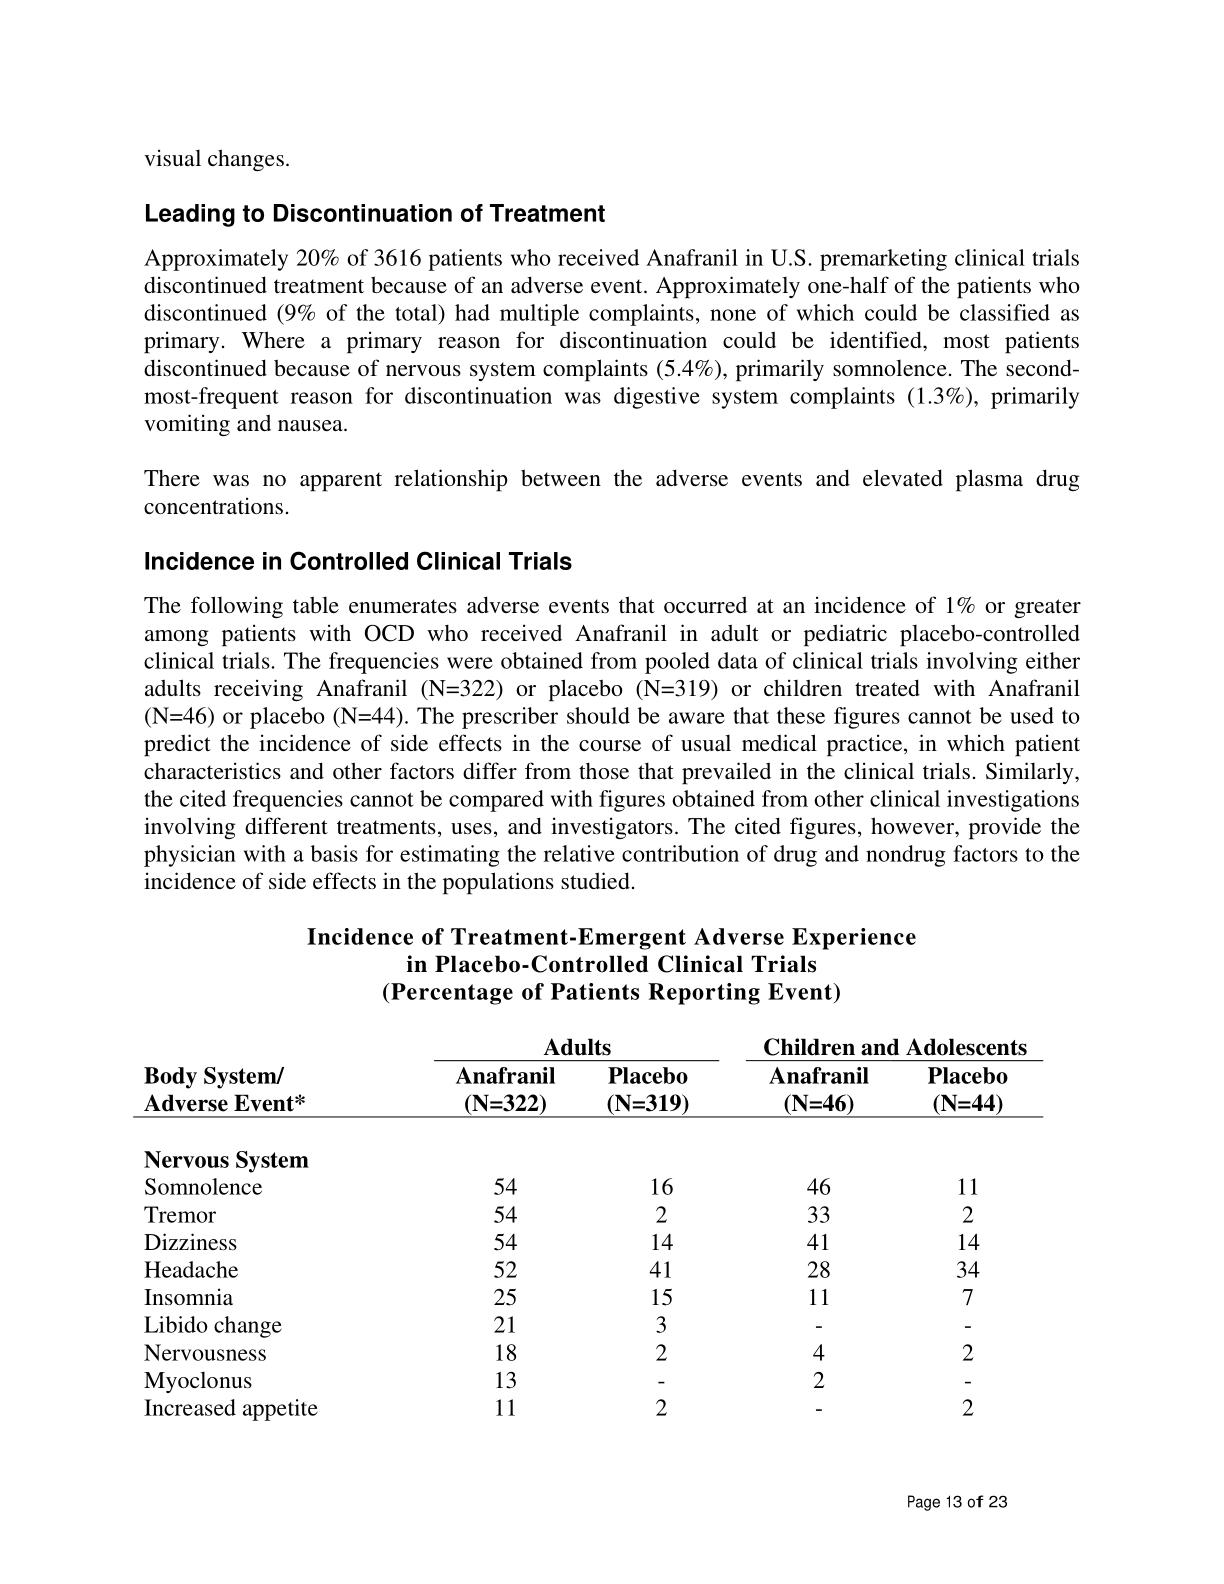partial_lined_merged_cells: (132, 1026, 1045, 1425)
